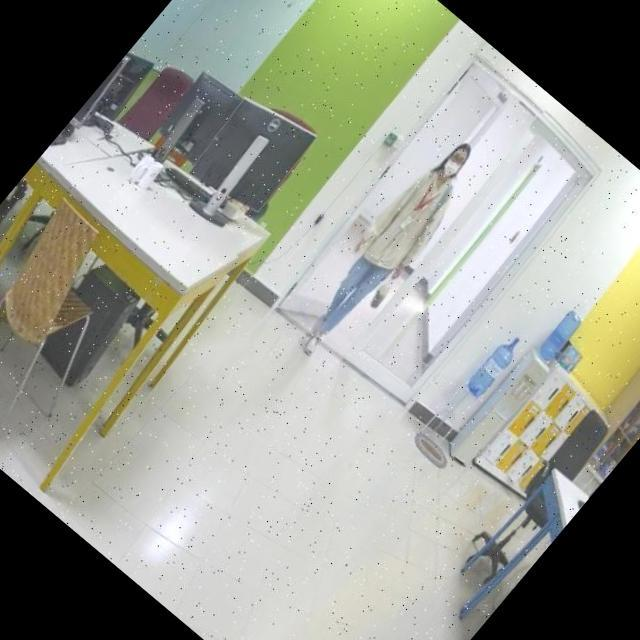person: (277, 128, 496, 372)
